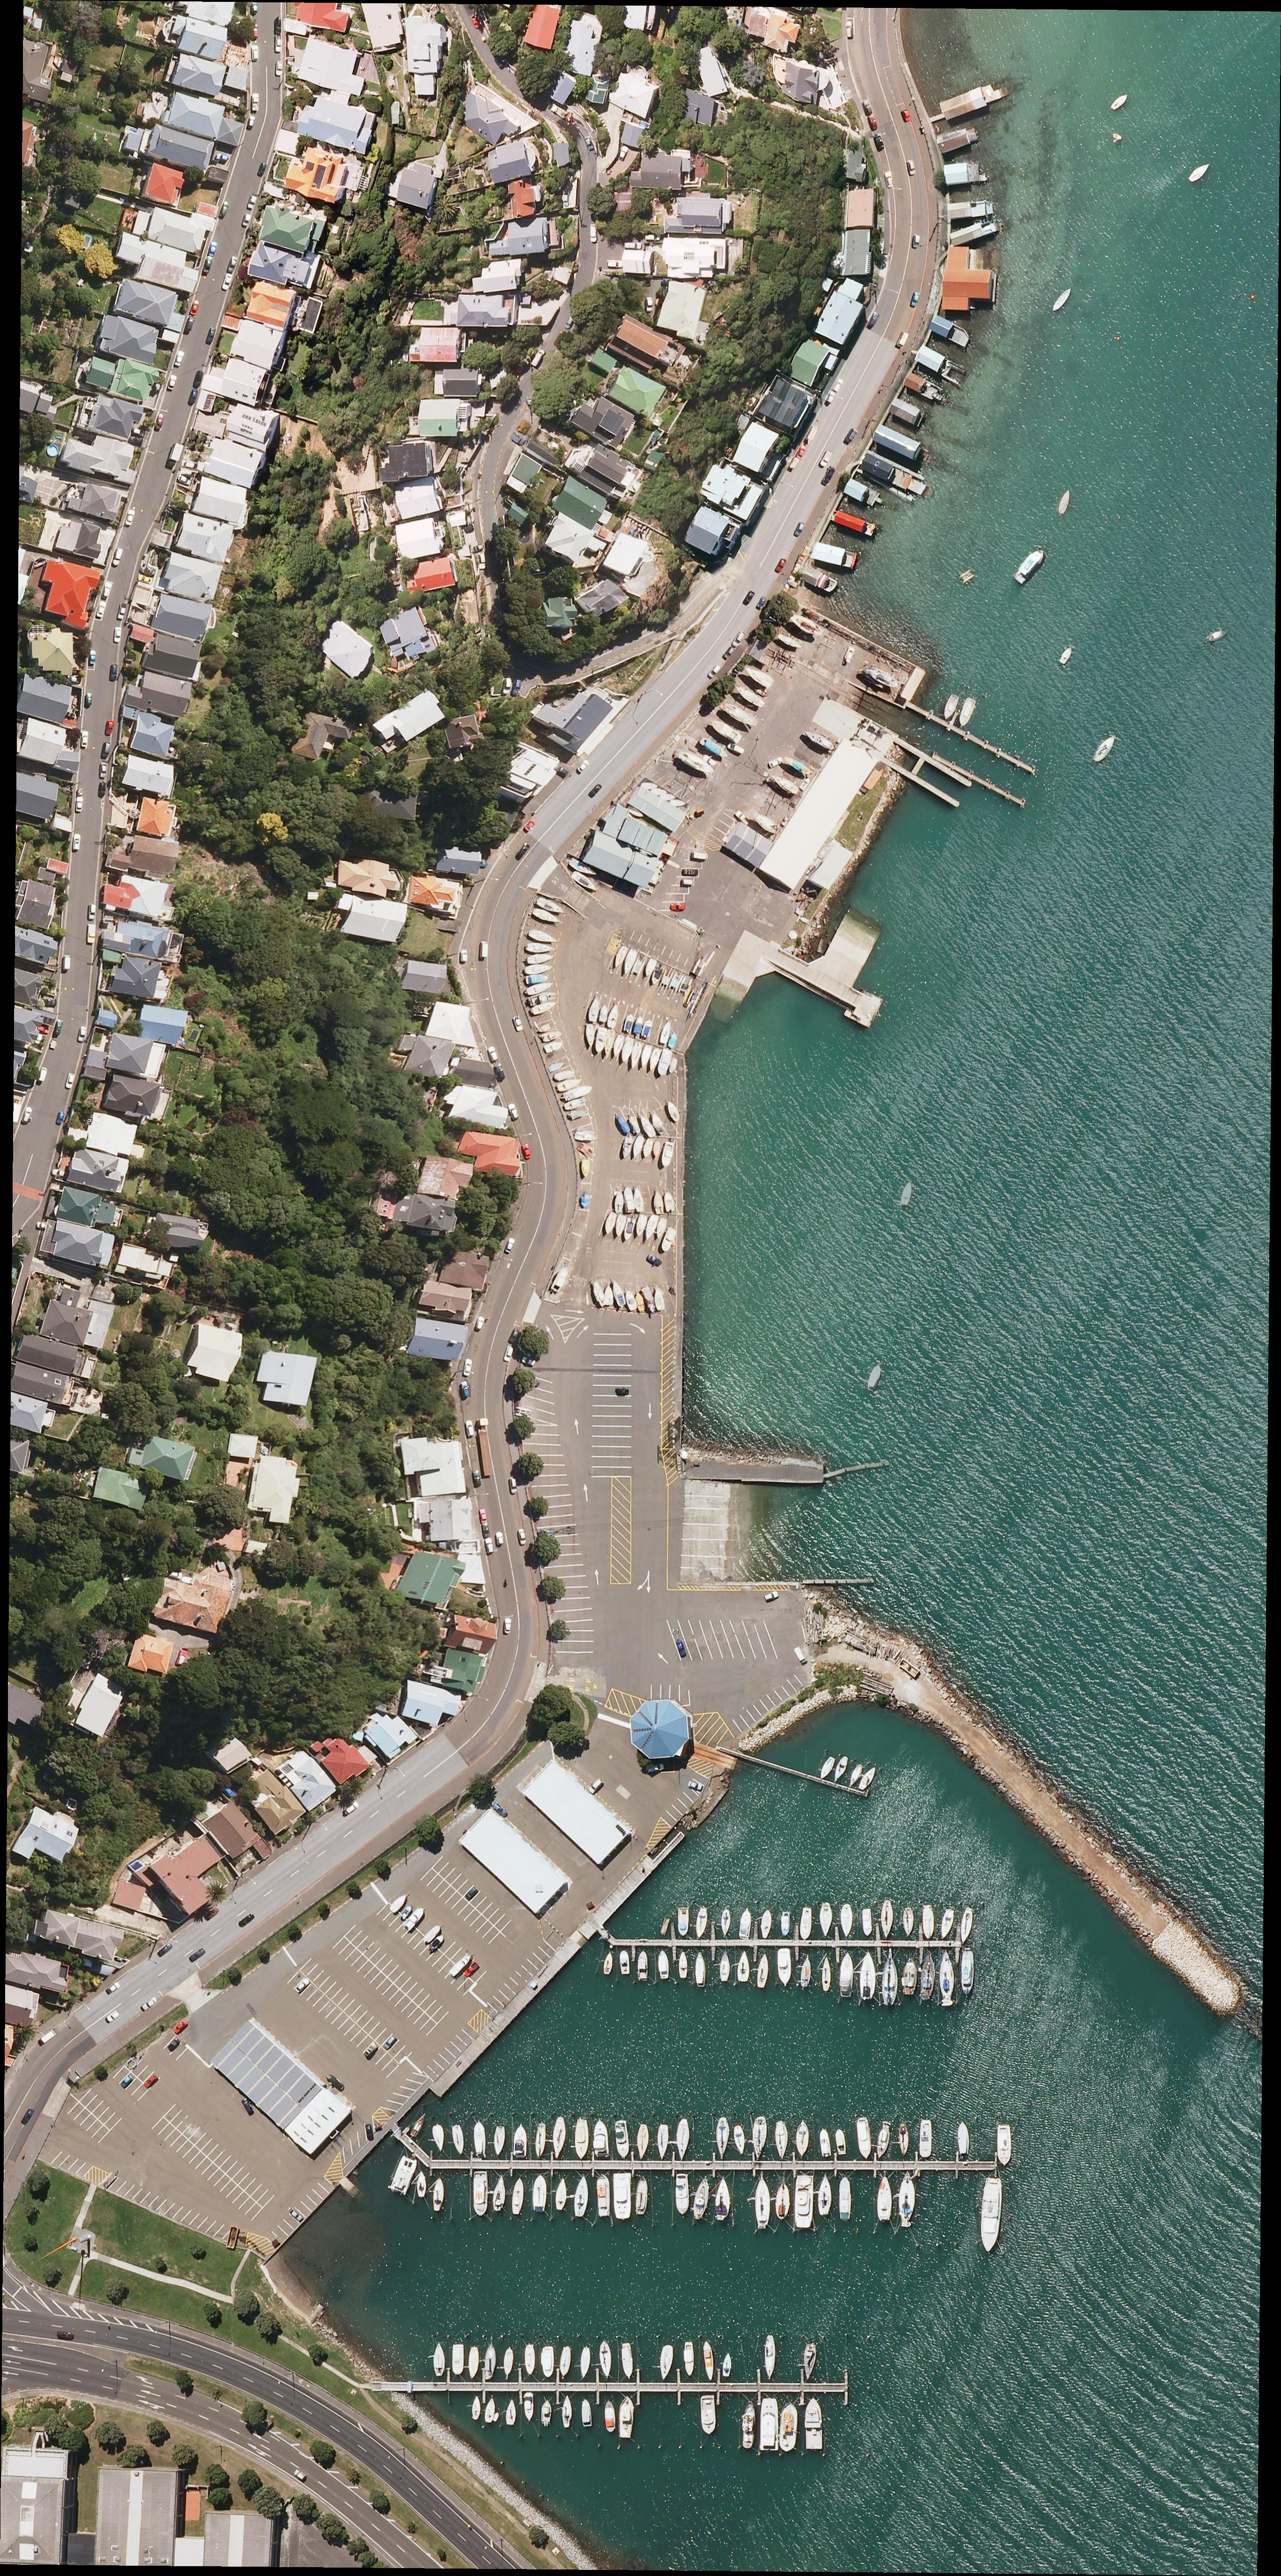harbor: (419, 2116, 1018, 2221), (432, 2338, 853, 2453), (610, 1904, 977, 2003), (740, 1753, 868, 1797), (880, 756, 960, 808), (895, 736, 973, 787), (950, 710, 960, 726)
ship: (978, 2177, 1003, 2254), (1011, 545, 1047, 587), (676, 749, 720, 779), (388, 2155, 418, 2195), (862, 660, 901, 690), (720, 700, 761, 728), (738, 660, 775, 692), (768, 767, 804, 797), (794, 2175, 814, 2228), (748, 807, 781, 838), (881, 1948, 899, 2004), (788, 611, 824, 639), (898, 2172, 916, 2226), (709, 716, 743, 744), (761, 2399, 779, 2451), (804, 2399, 822, 2450), (1090, 733, 1118, 764), (735, 683, 768, 710), (697, 736, 732, 761), (692, 2177, 712, 2219), (613, 2173, 631, 2219), (802, 728, 834, 754), (781, 2402, 798, 2451), (566, 854, 599, 879), (714, 2177, 732, 2221), (860, 1952, 876, 1999), (656, 2343, 676, 2382), (755, 2177, 770, 2229), (1049, 286, 1075, 315), (401, 1906, 428, 1935), (751, 2116, 770, 2159), (551, 2116, 569, 2159), (572, 2175, 590, 2218), (919, 1953, 936, 1999), (839, 1952, 855, 1998), (613, 2119, 631, 2160), (941, 1950, 954, 2006), (876, 2177, 893, 2221), (569, 869, 599, 894), (957, 697, 978, 729), (561, 1081, 594, 1102), (1107, 89, 1133, 115), (1187, 159, 1214, 186), (875, 2121, 893, 2159), (474, 2170, 488, 2216), (525, 927, 559, 946), (783, 754, 812, 777), (775, 2180, 791, 2221), (676, 2119, 692, 2160), (901, 1955, 918, 1994), (937, 1907, 957, 1940), (701, 2395, 717, 2435), (510, 2177, 526, 2216), (534, 895, 567, 915), (447, 1955, 474, 1980), (857, 1764, 880, 1792), (595, 2173, 610, 2216), (755, 1952, 771, 1989), (492, 2175, 508, 2213), (778, 1947, 793, 1988), (620, 2397, 635, 2438), (857, 2118, 872, 2159), (817, 2173, 832, 2215), (997, 2124, 1011, 2165), (962, 1948, 975, 1994), (896, 1181, 919, 1207), (865, 1364, 886, 1391), (482, 2344, 498, 2380), (959, 1907, 975, 1944), (531, 2175, 548, 2211), (1056, 486, 1075, 516), (549, 1263, 569, 1293), (531, 907, 562, 925), (526, 989, 557, 1007), (839, 2177, 852, 2219), (576, 2118, 589, 2160), (778, 629, 804, 651), (775, 2121, 789, 2159), (594, 2119, 608, 2157), (635, 2177, 650, 2215), (941, 693, 960, 721), (525, 979, 553, 999), (627, 1040, 646, 1068), (743, 2402, 755, 2450), (694, 1907, 710, 1940), (735, 1950, 751, 1983), (676, 2173, 689, 2215), (832, 1755, 850, 1784), (921, 1904, 936, 1940), (636, 2123, 651, 2159), (554, 1074, 584, 1093), (643, 1214, 661, 1244), (386, 1891, 409, 1914), (702, 2341, 715, 2380), (919, 2119, 932, 2159), (663, 1097, 682, 1124), (608, 1281, 628, 1308), (557, 2346, 574, 2377), (492, 2126, 508, 2157), (554, 2177, 569, 2211), (585, 996, 604, 1024), (613, 1214, 631, 1242), (622, 948, 640, 976), (804, 2343, 817, 2380), (622, 2341, 635, 2379), (796, 2119, 809, 2157), (717, 2118, 728, 2160), (426, 1934, 449, 1955), (817, 1755, 837, 1779), (738, 1907, 753, 1940), (799, 1907, 814, 1940), (513, 2124, 528, 2157), (528, 999, 557, 1015), (525, 951, 554, 968), (592, 1280, 607, 1313), (659, 1229, 679, 1254), (881, 1901, 895, 1937), (658, 1142, 676, 1168), (656, 1050, 674, 1076), (617, 1037, 635, 1063), (604, 1030, 622, 1056), (640, 1286, 656, 1314), (474, 2121, 487, 2155), (957, 2121, 970, 2155), (656, 2124, 669, 2159), (615, 1112, 635, 1135), (636, 1114, 656, 1137), (419, 1924, 442, 1944), (610, 1033, 628, 1058), (765, 2334, 775, 2379), (594, 1027, 608, 1056), (799, 1955, 812, 1988), (840, 1904, 853, 1937), (579, 2346, 592, 2379), (541, 2344, 554, 2377), (432, 2343, 446, 2376), (604, 2400, 617, 2433), (432, 2178, 446, 2211), (534, 2124, 548, 2157), (656, 1020, 673, 1046), (638, 1042, 654, 1068), (847, 1764, 865, 1787), (600, 2341, 612, 2377), (648, 963, 666, 986), (584, 1024, 599, 1051), (452, 2124, 465, 2155), (733, 2124, 747, 2155), (561, 1096, 585, 1112), (630, 1134, 646, 1158), (612, 945, 628, 969), (602, 1211, 618, 1235), (622, 1219, 638, 1244), (696, 1953, 707, 1988), (821, 1957, 832, 1991), (821, 1902, 832, 1937), (658, 1950, 671, 1980), (677, 1907, 691, 1937), (760, 1909, 773, 1939), (819, 2128, 832, 2157), (551, 1068, 577, 1083), (620, 1132, 635, 1158), (543, 1038, 564, 1056), (469, 2346, 480, 2379), (650, 1112, 666, 1135), (646, 1048, 663, 1071), (641, 958, 658, 981), (525, 963, 553, 976), (635, 1214, 650, 1239), (452, 2344, 464, 2376), (898, 2124, 909, 2155), (625, 1114, 643, 1134), (1059, 646, 1075, 667), (432, 2126, 446, 2152), (834, 2129, 847, 2155), (605, 1002, 618, 1028), (538, 1030, 564, 1043), (719, 1952, 730, 1981), (684, 2341, 694, 2376), (620, 1012, 635, 1035), (654, 1217, 669, 1240), (1205, 628, 1228, 642), (602, 1952, 615, 1976), (562, 2395, 572, 2428), (638, 1020, 654, 1040), (653, 1288, 666, 1313), (903, 1907, 914, 1935), (503, 2348, 515, 2376), (580, 2399, 592, 2427), (641, 1137, 656, 1158), (720, 1909, 732, 1935), (862, 1909, 873, 1935), (722, 2351, 733, 2377), (485, 2397, 497, 2423), (506, 2399, 518, 2425), (523, 976, 549, 987), (612, 1191, 625, 1214), (572, 1129, 595, 1142), (625, 1288, 638, 1311), (633, 1290, 646, 1313), (666, 1032, 682, 1050), (396, 1904, 414, 1921), (638, 1952, 648, 1981), (525, 2344, 534, 2374), (525, 2392, 534, 2422), (523, 943, 553, 953), (597, 1004, 612, 1024), (631, 1017, 646, 1037), (620, 1950, 631, 1975), (541, 2400, 553, 2425), (623, 1188, 635, 1212), (664, 1189, 676, 1214), (653, 1191, 664, 1214), (604, 1285, 615, 1308), (679, 1952, 689, 1978), (781, 1911, 791, 1937), (544, 1061, 564, 1074), (635, 1188, 645, 1214), (650, 1140, 663, 1160), (418, 2172, 428, 2196), (472, 2395, 482, 2420), (536, 1022, 554, 1035), (666, 1058, 679, 1074), (580, 1160, 592, 1178)
